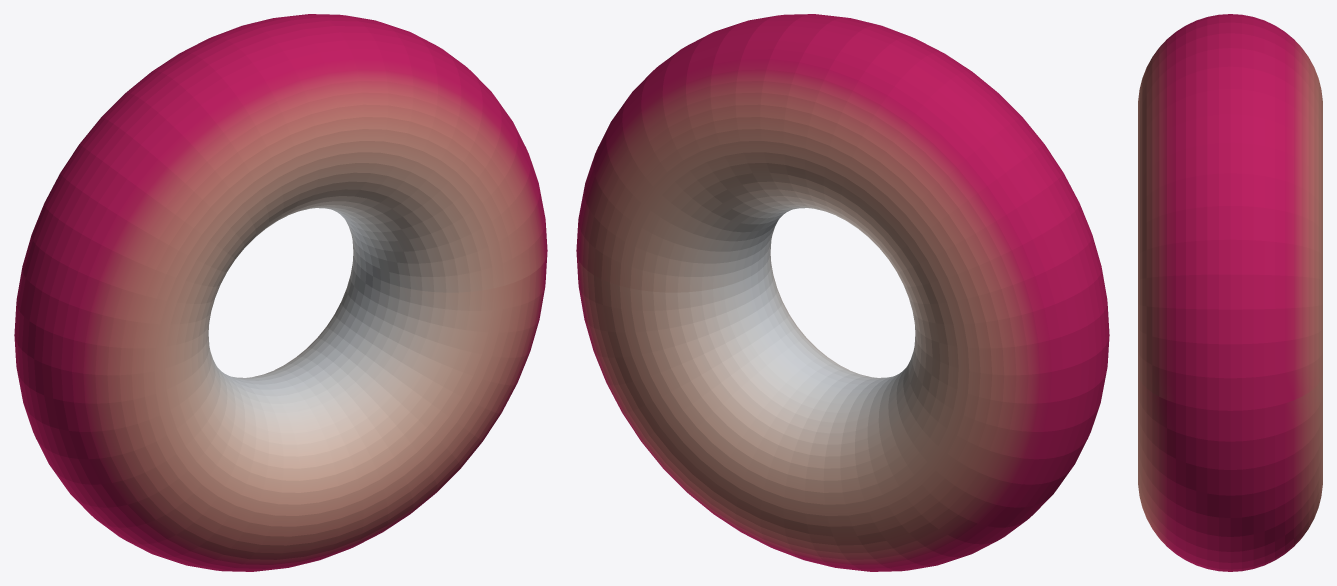
3 renders of one model, left to right at view 1: azimuth 30°, elevation 25°; view 2: azimuth 150°, elevation 25°; view 3: azimuth 270°, elevation 25°, orthographic. The views are drawn at different scales.
Parts seen in each view (by area): view 1: world; view 2: world; view 3: world.
Boxes of the visible parts, <box> form: world: <box>14,14,547,571</box>; world: <box>576,14,1109,571</box>; world: <box>1138,14,1322,571</box>.
Bounding box in the file's own units: 26.93 × 26.88 × 8.92.
